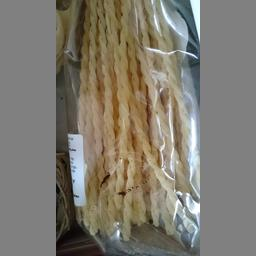pasta: (70, 0, 196, 242)
